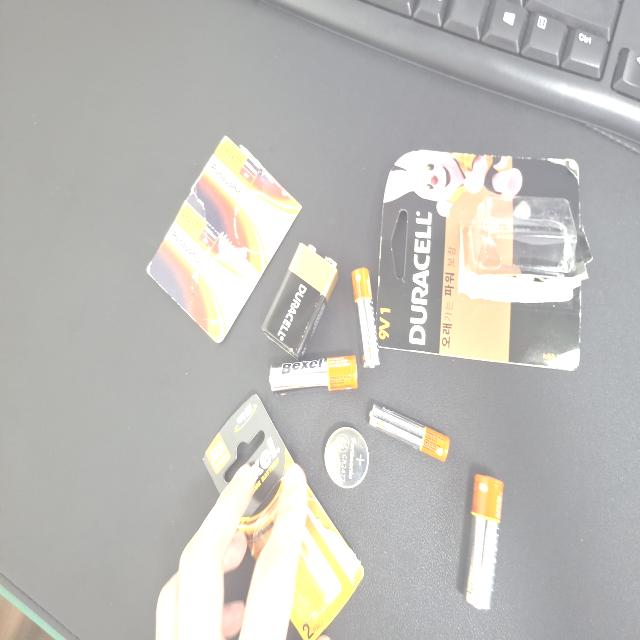9V: (210, 348, 298, 451)
AA: (184, 359, 214, 477), (22, 621, 124, 640)
AAA: (134, 492, 177, 600), (204, 469, 279, 507)
COIN: (114, 432, 160, 492)
